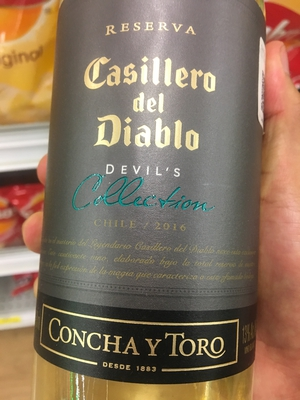casillero del diablo devils collection verde: (28, 1, 270, 392)
